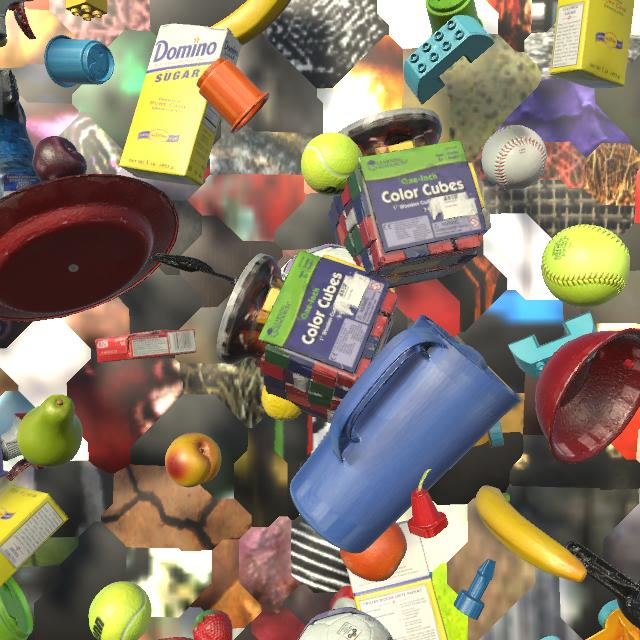ycb_004_sugar_box: (119, 24, 242, 186), (346, 520, 448, 640), (549, 0, 635, 88), (0, 485, 68, 587)
ycb_009_gelatin_box: (95, 329, 197, 363)
ycb_011_banana: (475, 486, 587, 582), (211, 0, 291, 46)
ycb_012_strawberry: (192, 610, 232, 640), (623, 359, 635, 369)
ycb_014_lemon: (261, 385, 302, 421)
ycb_015_peach: (165, 433, 221, 487)
ycb_016_pear: (17, 394, 83, 468)
ycb_017_orange: (340, 522, 407, 582)
ycb_018_plum: (33, 136, 87, 182)
